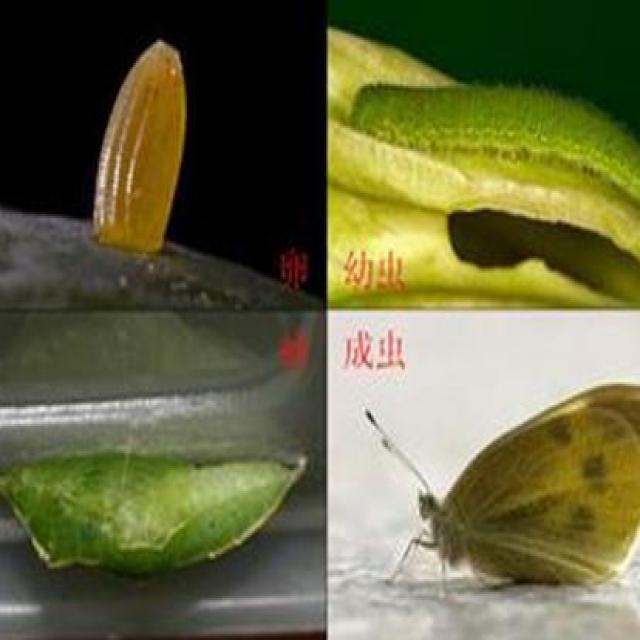armyworm: (374, 392, 640, 585), (7, 449, 313, 585), (359, 49, 639, 187), (92, 38, 197, 270)
